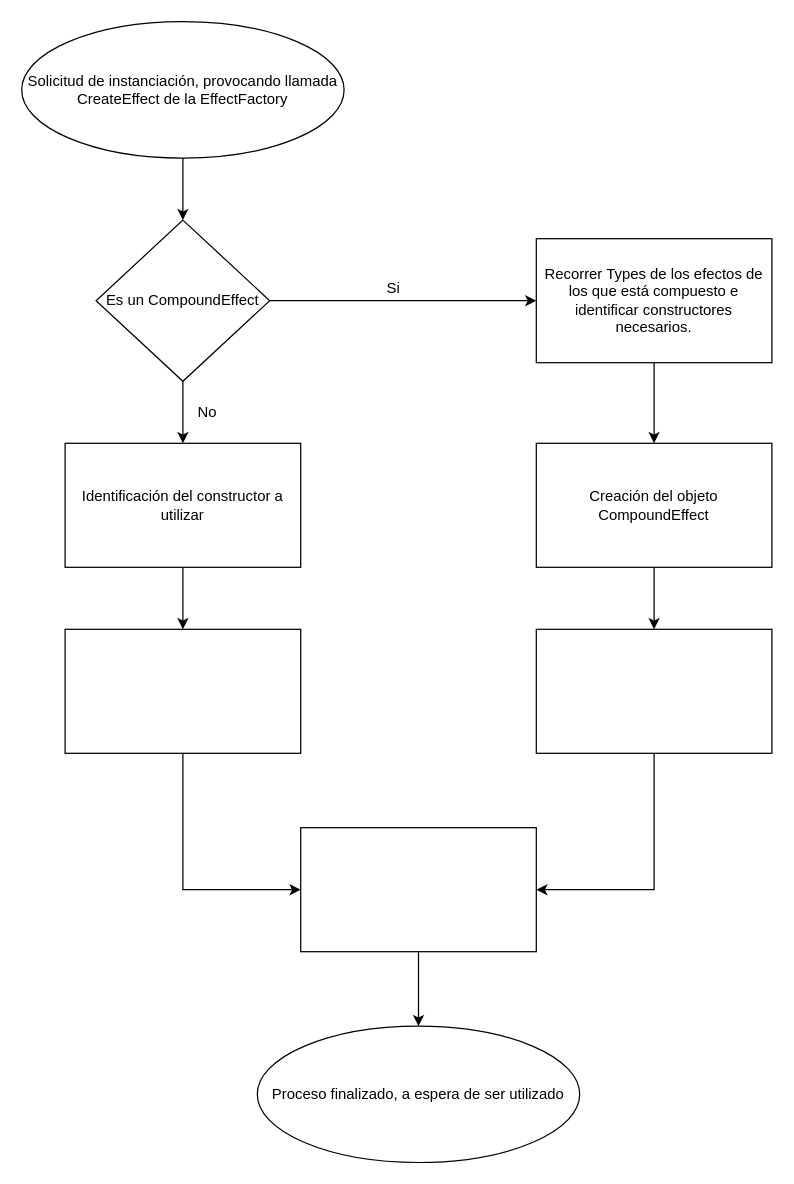
This 794x1184 diagram has some shape labels left out. The centre of each missing label's shape, as x and y in pixels:
Asignar el IEffect a la ICard a la que pertenece: point (417, 889)
Añadir al CompoundEffect los IEffects individuales: point (653, 690)
Construcción del efecto: point (182, 690)
